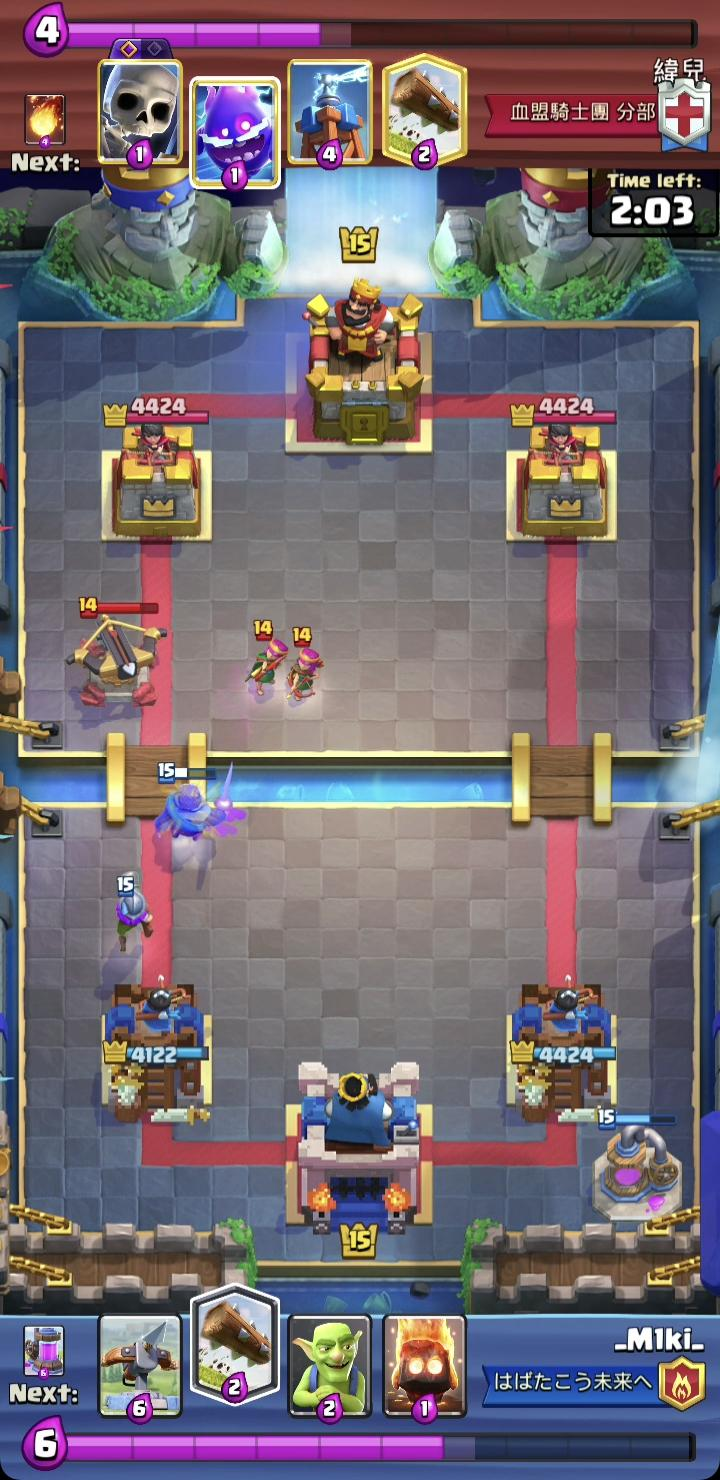ally_elixirpump: (592, 1106, 686, 1225)
ally_knight: (147, 761, 239, 846)
ally_musketeer: (109, 867, 154, 951)
enemy_archer: (276, 625, 327, 703), (245, 616, 287, 698)
enemy_xbow: (65, 596, 171, 710)
